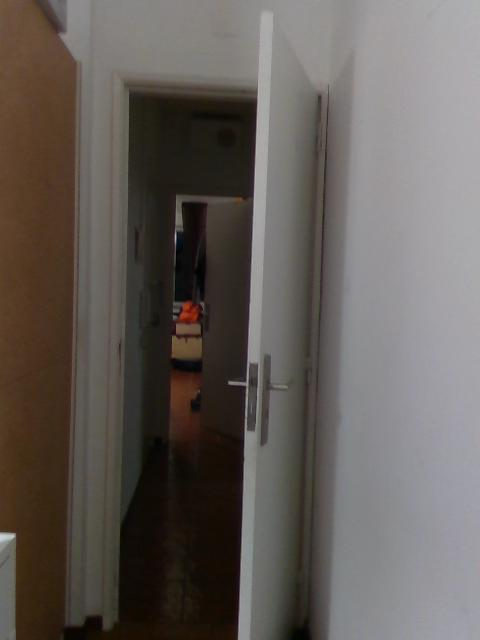semi_door: (107, 2, 331, 637)
